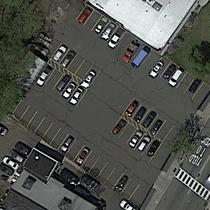parkingspot: (73, 4, 210, 109), (11, 98, 142, 202), (108, 116, 162, 164), (33, 62, 88, 109), (122, 96, 176, 143), (50, 41, 103, 87), (0, 139, 32, 179)
